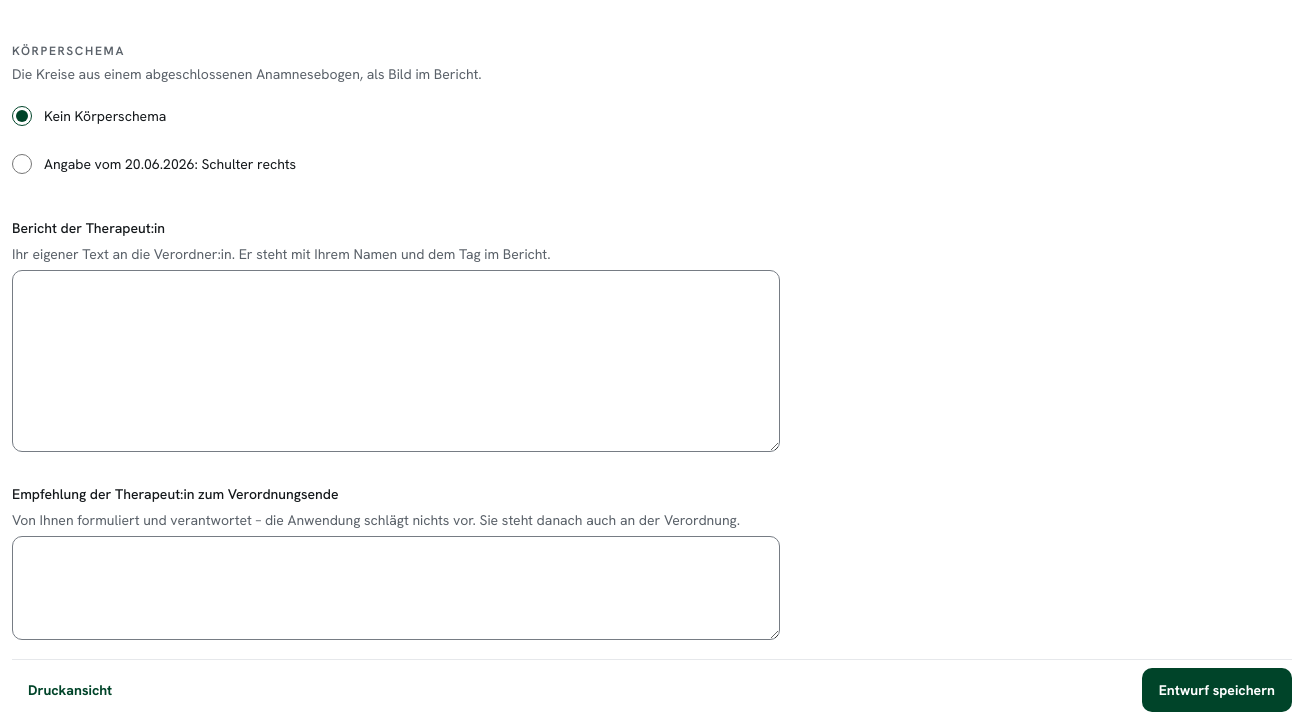
Therapiebericht schreiben › lässt den eigenen Text stehen, wenn jemand anderes zwischenzeitlich gespeichert hat
(page scrolled)
Type "Mein Text" into the text box labelled "Bericht der Therapeut:in".
click(396, 361); type("Mein Text")  # box 12,270 -> 780,452
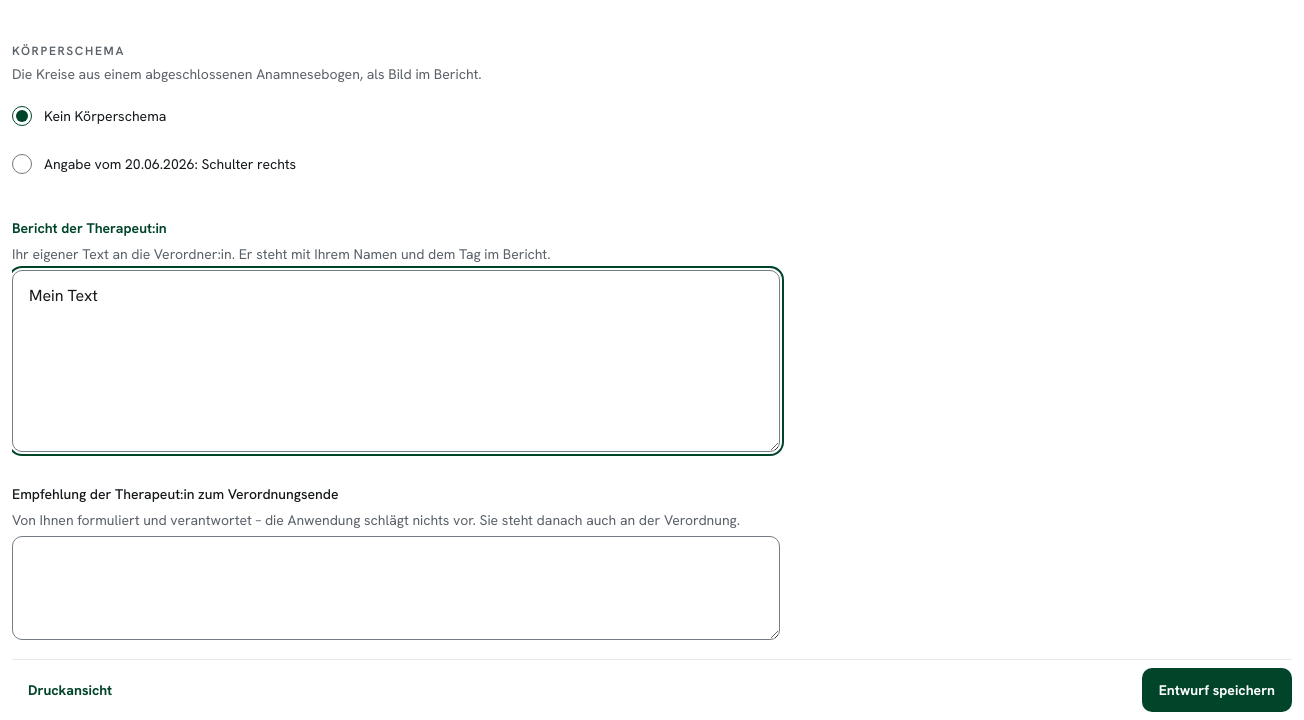
Click the button "Entwurf speichern".
click(1217, 690)  # box 1142,668 -> 1292,712
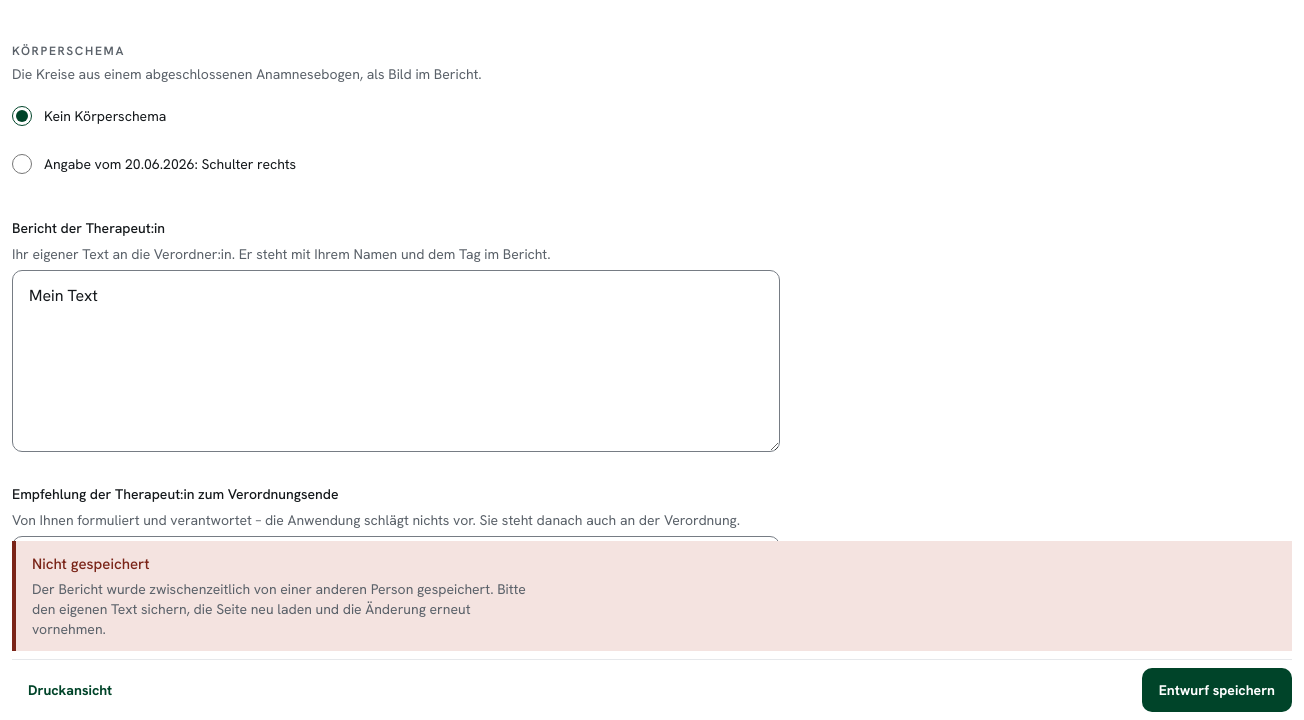
Expected: the text "zwischenzeitlich von einer anderen Person" is shown, 32,580 -> 526,638
